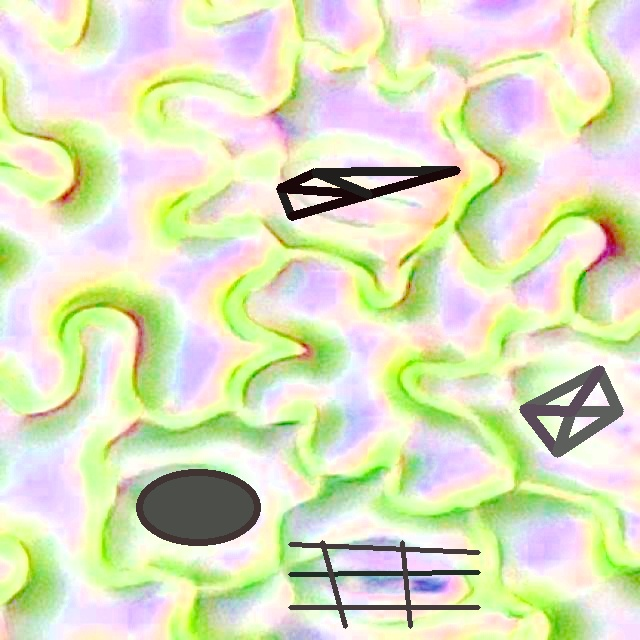open: (288, 541, 479, 627), (277, 168, 459, 220), (136, 469, 259, 545), (520, 366, 622, 456)
